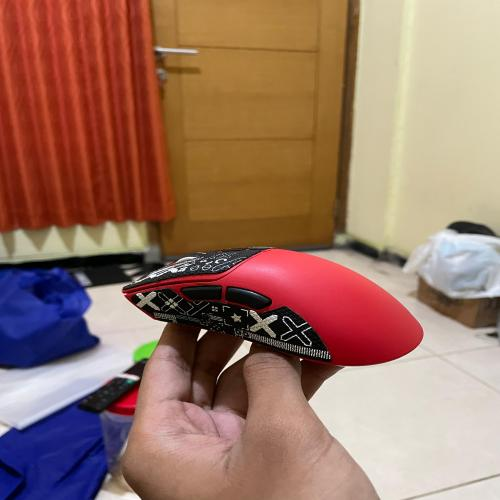mouse: (110, 232, 438, 377)
